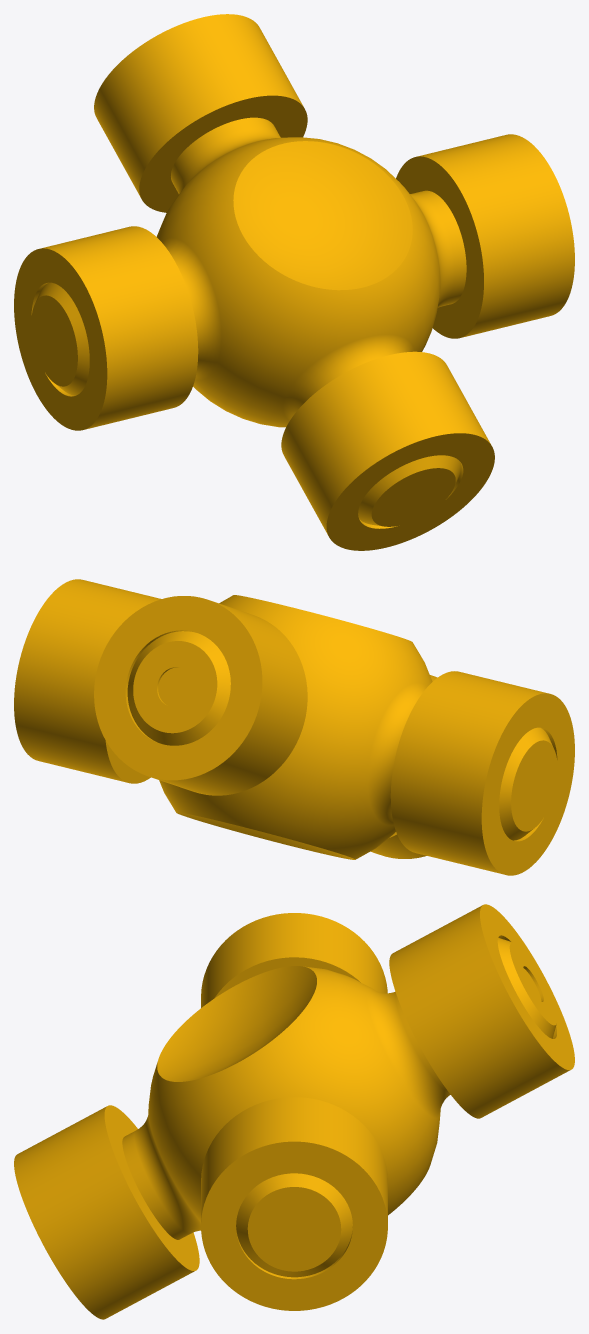
File: croisillion_haut5.dae
The picture shows the model from 3 angles, top to bottom: view 1: azimuth 30°, elevation 25°; view 2: azimuth 150°, elevation 25°; view 3: azimuth 270°, elevation 25°; orthographic projection.
Parts seen in each view (by area): view 1: C0001_0001-2_Croisillon_7; view 2: C0001_0001-2_Croisillon_7; view 3: C0001_0001-2_Croisillon_7.
Boxes of the visible parts, x1,y1,x2,y2 form: C0001_0001-2_Croisillon_7: (14,14,574,550); C0001_0001-2_Croisillon_7: (14,579,574,875); C0001_0001-2_Croisillon_7: (14,904,574,1319).
Size of the model in its own units: 0.095 by 0.096 by 0.0746.
